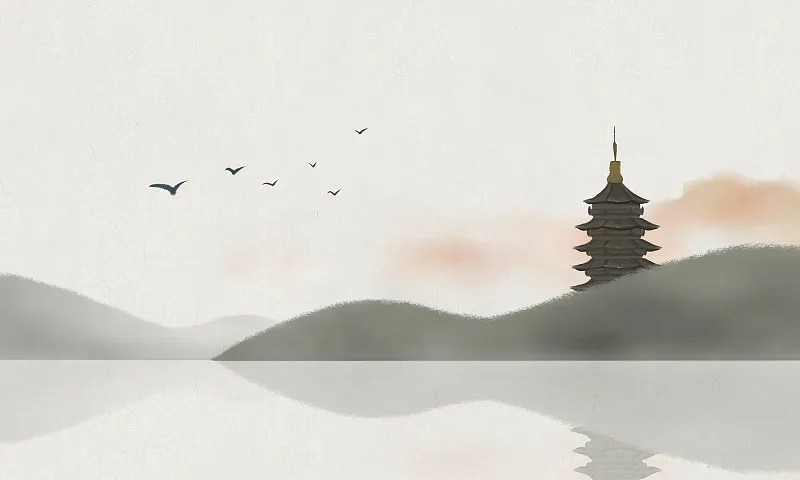Leifeng: (571, 125, 661, 295)
